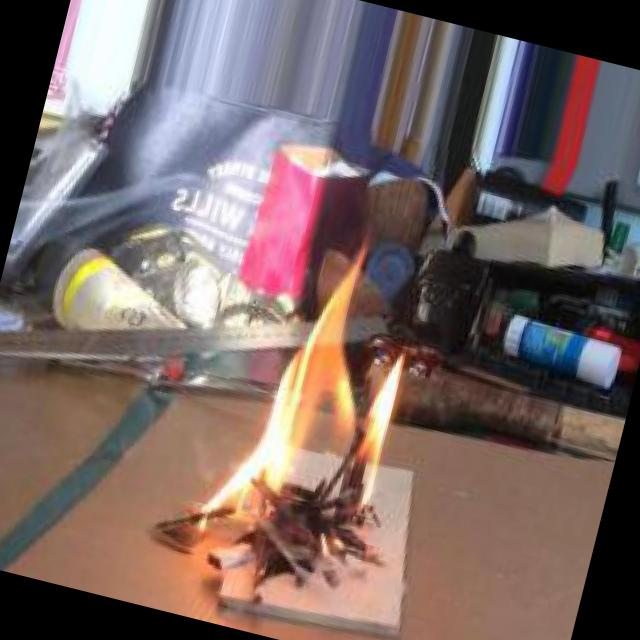fire: (202, 210, 436, 558)
